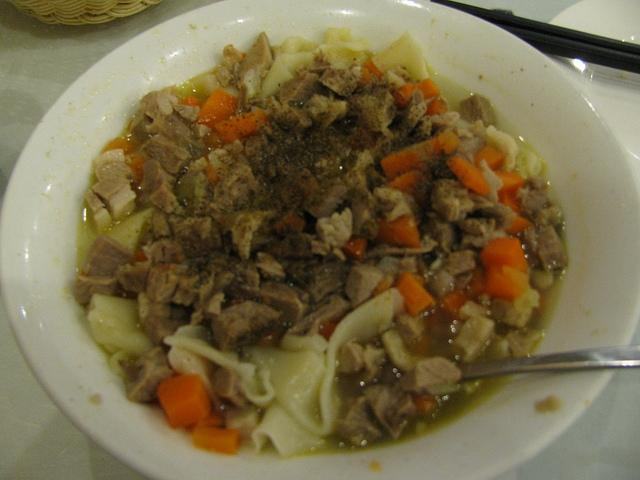carrot: (157, 374, 212, 427), (380, 138, 440, 182), (214, 108, 268, 144), (194, 88, 238, 132), (393, 270, 434, 316), (446, 156, 490, 198), (485, 266, 530, 302), (481, 238, 528, 272), (497, 191, 532, 235), (375, 214, 420, 247), (192, 426, 242, 454), (385, 168, 425, 196), (185, 411, 224, 433), (441, 291, 468, 319), (474, 146, 505, 170), (494, 172, 525, 196), (357, 60, 384, 87), (464, 264, 486, 296), (342, 235, 368, 262), (274, 214, 306, 234), (129, 156, 147, 186), (372, 274, 394, 298), (438, 131, 462, 153), (424, 96, 448, 116), (418, 79, 440, 100), (412, 395, 437, 413), (204, 154, 218, 186), (413, 335, 432, 356), (180, 94, 201, 110), (320, 322, 338, 340), (133, 250, 148, 262)
